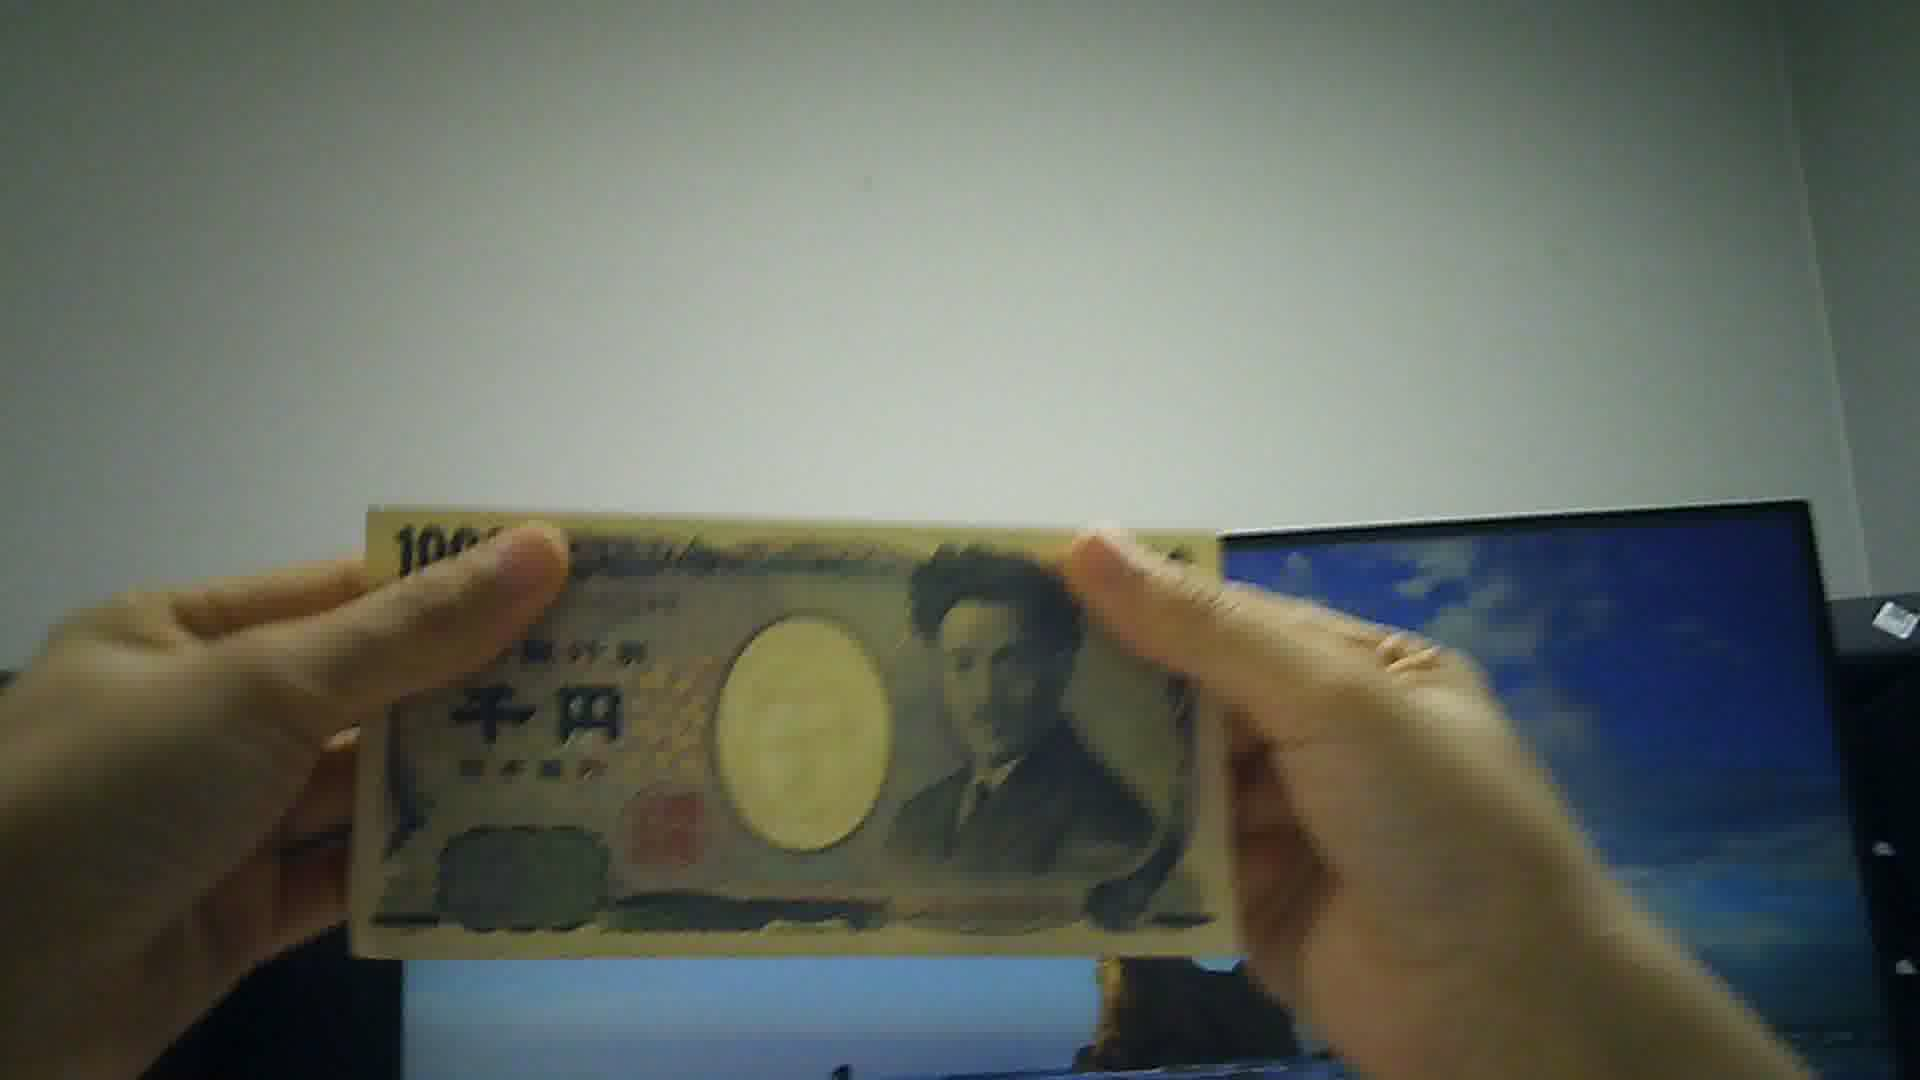1,000 Yen: (356, 498, 1270, 971)
